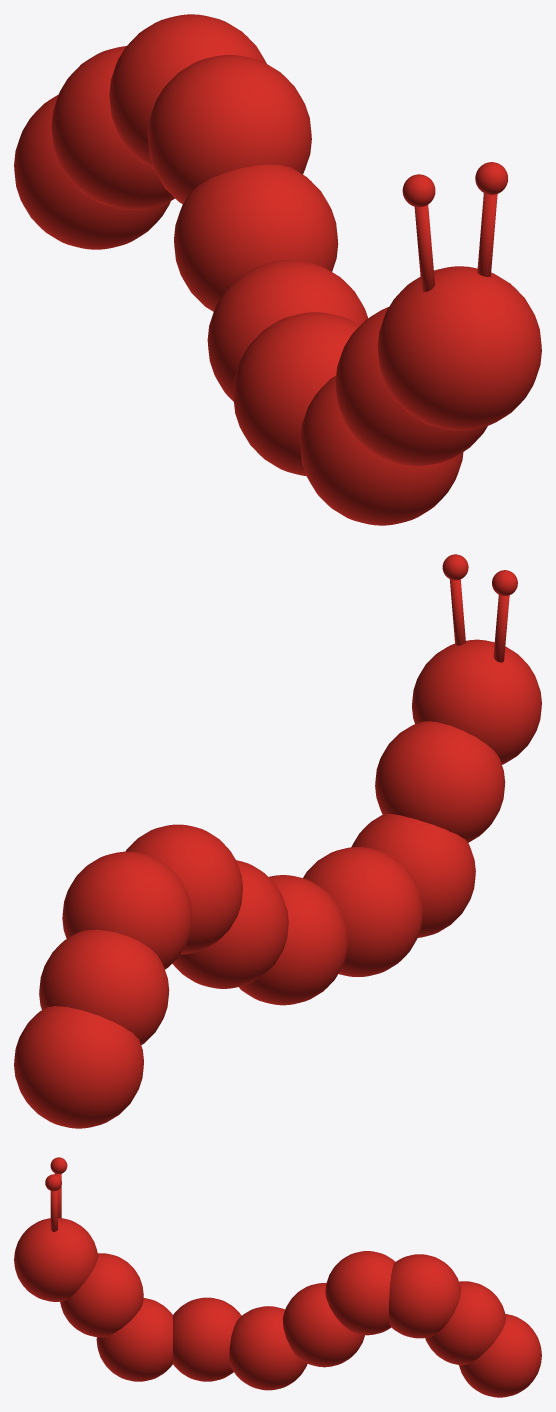
The model's file is caterpillar.fbx.
The picture shows the model from 3 angles, top to bottom: view 1: azimuth 30°, elevation 25°; view 2: azimuth 150°, elevation 25°; view 3: azimuth 270°, elevation 25°; orthographic projection. The views are drawn at different scales.
Parts seen in each view (by area): view 1: Sphere.010; view 2: Sphere.010; view 3: Sphere.010.
Boxes of the visible parts, x1=… form: Sphere.010: x1=14, y1=14, x2=541, y2=525; Sphere.010: x1=14, y1=554, x2=541, y2=1128; Sphere.010: x1=14, y1=1157, x2=541, y2=1397.
Size of the model in its own units: 0.4821 by 0.8222 by 1.88.
